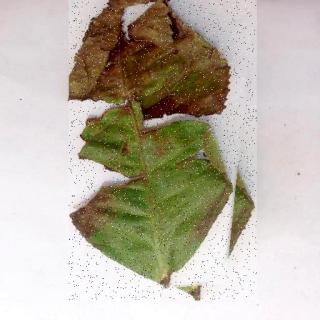Algal Leaf: (70, 1, 258, 301)
